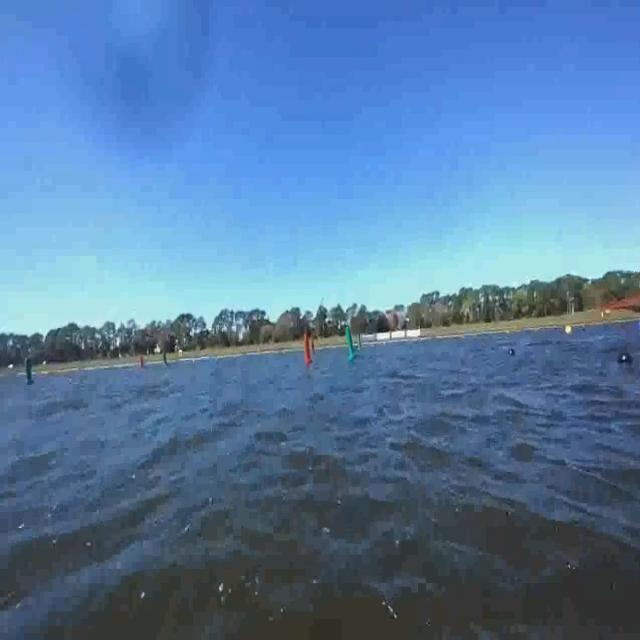black-buoy: (619, 351, 634, 366), (508, 348, 516, 357)
green-column-buoy: (346, 327, 357, 361), (25, 358, 36, 386), (164, 348, 170, 367)
red-column-buoy: (305, 335, 314, 365), (139, 353, 146, 370)
yellow-buoy: (565, 326, 572, 338)
